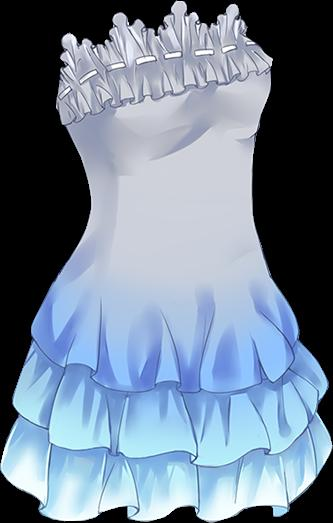Bodice: (56, 1, 272, 201)
Hemline: (11, 379, 329, 467), (0, 445, 332, 522), (27, 329, 303, 398)
Neckline: (54, 1, 248, 93), (54, 38, 251, 103)
Skirt: (1, 202, 331, 521)
Waistline: (63, 60, 271, 127)
